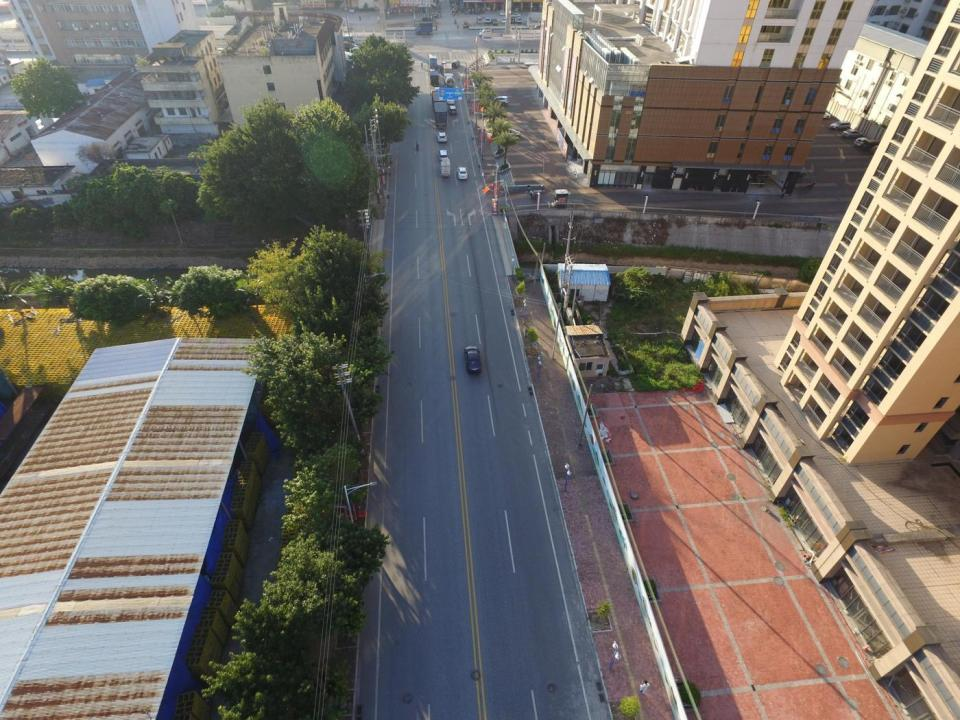car: (463, 345, 481, 374), (499, 128, 521, 140), (489, 95, 508, 106), (456, 166, 468, 180), (438, 148, 449, 162), (437, 130, 448, 144), (448, 104, 457, 115), (450, 60, 462, 68), (447, 94, 455, 104), (510, 12, 521, 18), (440, 60, 447, 68), (500, 17, 508, 24), (490, 18, 498, 25), (348, 6, 356, 13), (498, 9, 504, 16), (509, 18, 516, 24), (434, 86, 440, 92)
truck: (430, 89, 448, 128), (439, 157, 452, 178), (412, 21, 433, 34), (429, 68, 438, 86), (428, 53, 438, 69)
van: (476, 16, 483, 24), (484, 17, 491, 24), (517, 17, 523, 24)
